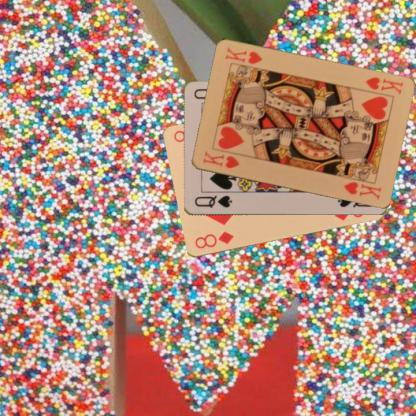8d: (192, 229, 234, 250)
Kh: (362, 74, 404, 96), (200, 148, 240, 170)
Qs: (192, 193, 233, 210)
